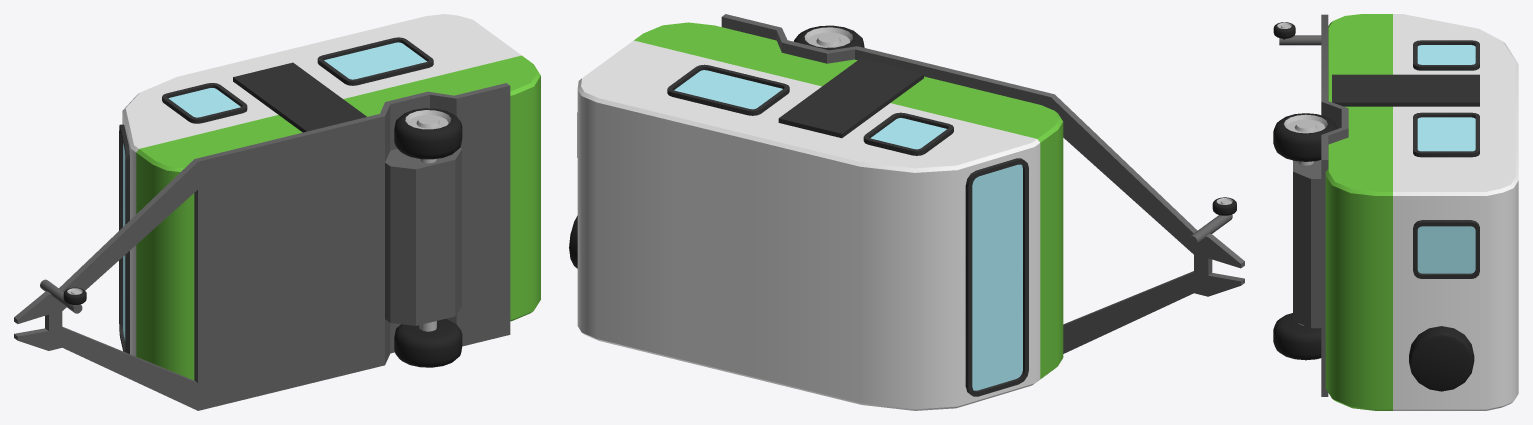
Rendered from Caravan.fbx.
The picture shows the model from 3 angles, left to right: view 1: azimuth 30°, elevation 25°; view 2: azimuth 150°, elevation 25°; view 3: azimuth 270°, elevation 25°; orthographic projection. The views are drawn at different scales.
Visible parts, largest first — view 1: Cube; view 2: Cube; view 3: Cube.
Part boxes in pixels (left/top/right/bottom): Cube: left=14, top=14, right=540, bottom=410; Cube: left=569, top=14, right=1244, bottom=410; Cube: left=1273, top=14, right=1518, bottom=410.
Size of the model in its own units: 8.31 by 3.52 by 3.3.
